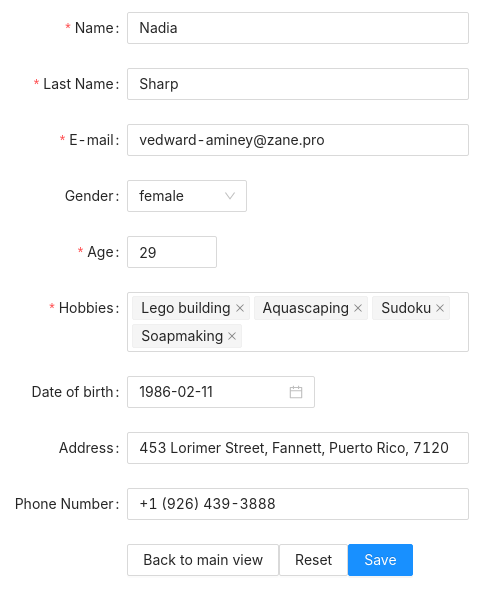
User Form Tests › Changing gender
Expected: the text "female" is shown, [139, 181, 235, 211]
Click the element showing "female" at (187, 196), box [127, 180, 247, 212]
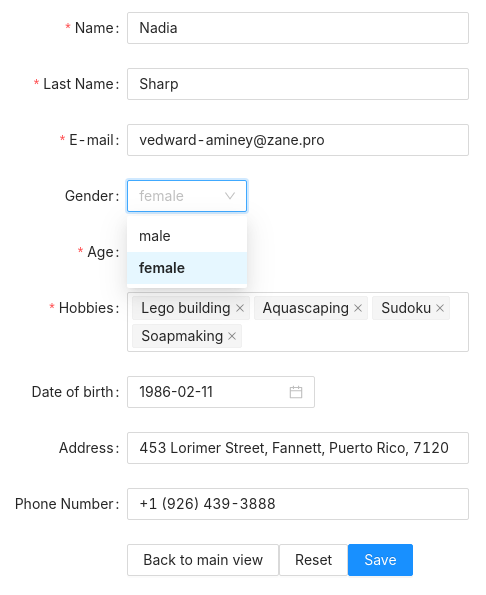
Click the text "male" at (155, 236), box [139, 227, 171, 244]
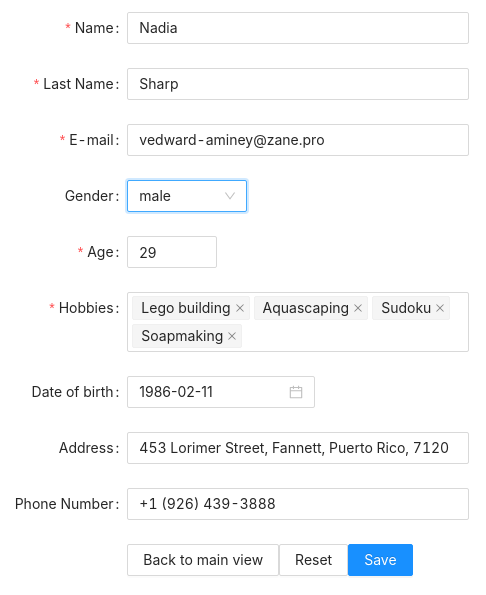
Result: the text "male" is shown at [139, 181, 235, 211]
